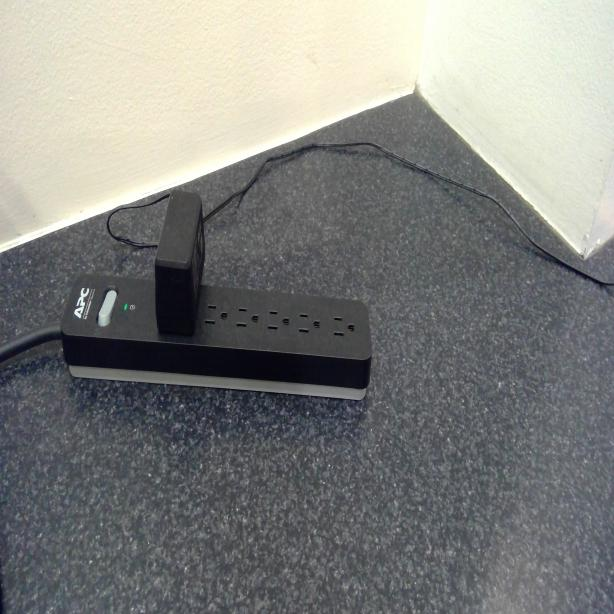typeb: (200, 297, 228, 338), (330, 311, 360, 348), (234, 300, 260, 340), (266, 304, 292, 344), (295, 308, 321, 342)
